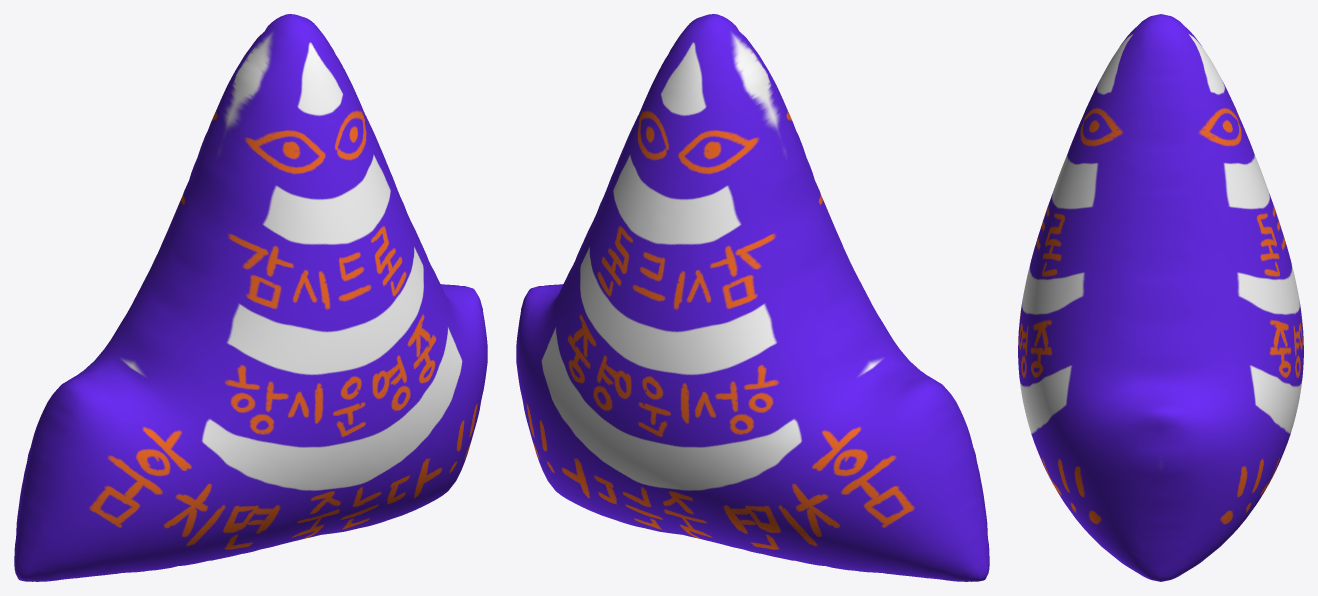
File: purple_cone.b5397bf1.glb
3 views of the same model, side by side, from view 1: azimuth 30°, elevation 25°; view 2: azimuth 150°, elevation 25°; view 3: azimuth 270°, elevation 25° (orthographic). The views are drawn at different scales.
Size of the model in its own units: 5.81 by 6.23 by 3.21.
1 material, 1 textured.
